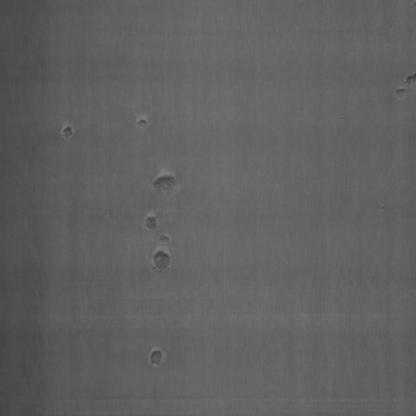rolled_pit: (140, 326, 168, 390), (148, 157, 178, 211), (144, 234, 178, 281), (54, 113, 84, 152), (131, 102, 156, 144), (143, 194, 166, 230)
